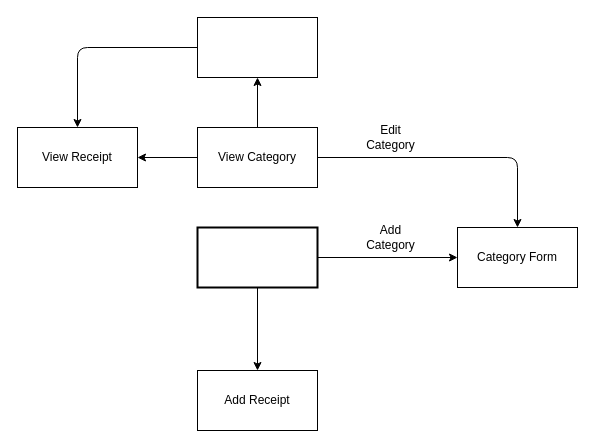
The diagram is 595 pixels wide and 448 high, and some of its shapes have lost their labels. Here are the shapes that lost their labels. From the top down, the centre of each, then its label:
At [257,47]: "Old Receipts".
At [257,257]: "Categories (Main Page)".
